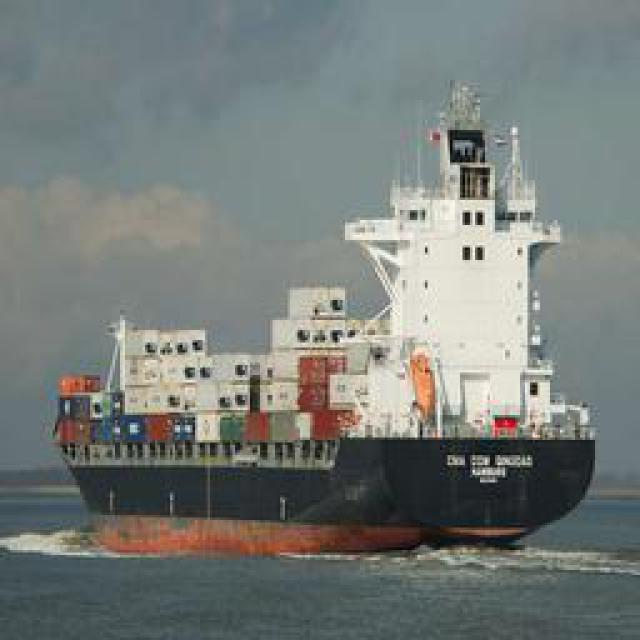Ship: (49, 75, 592, 550)
